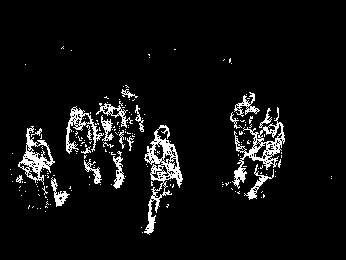person: (144, 123, 183, 237), (23, 127, 65, 210), (251, 104, 285, 202), (95, 98, 126, 188), (66, 107, 101, 185), (231, 89, 258, 189), (118, 85, 144, 150)
